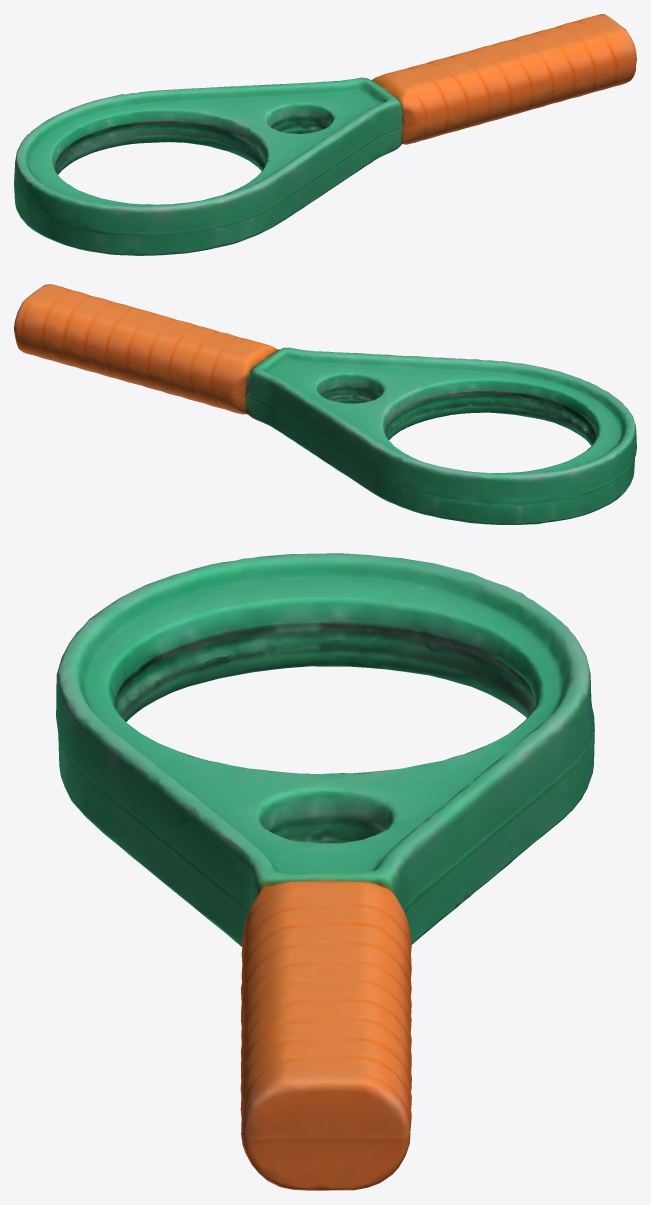
Rendered from Magnifying_Glassassrt.glb.
The picture shows the model from 3 angles, top to bottom: view 1: azimuth 30°, elevation 25°; view 2: azimuth 150°, elevation 25°; view 3: azimuth 270°, elevation 25°; orthographic projection. The views are drawn at different scales.
Parts seen in each view (by area): view 1: Magnifying_Glassassrt; view 2: Magnifying_Glassassrt; view 3: Magnifying_Glassassrt.
Boxes of the visible parts, x1=… form: Magnifying_Glassassrt: x1=14, y1=14, x2=636, y2=255; Magnifying_Glassassrt: x1=14, y1=284, x2=636, y2=524; Magnifying_Glassassrt: x1=56, y1=553, x2=594, y2=1190.
Size of the model in its own units: 0.1518 by 0.017 by 0.0604.
Materials: 1 (1 with a texture image).
